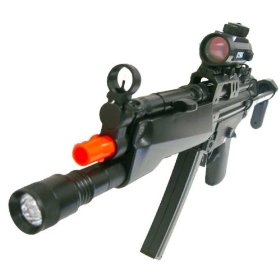rifle: (12, 29, 266, 258)
